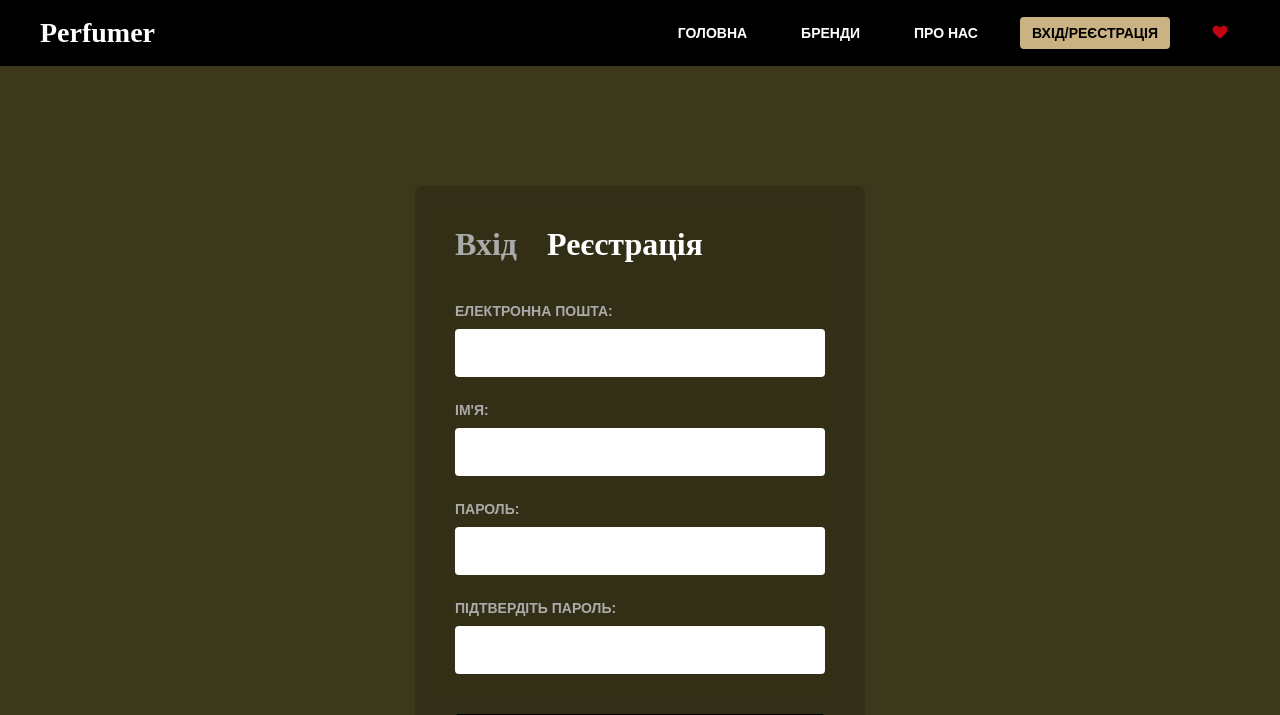
Авторизація (Real DB) › Вхід існуючим користувачем (з помилкою)
The width and height of the screenshot is (1280, 715).
Click the button "Вхід": (486, 250) left=455, top=226, right=517, bottom=273
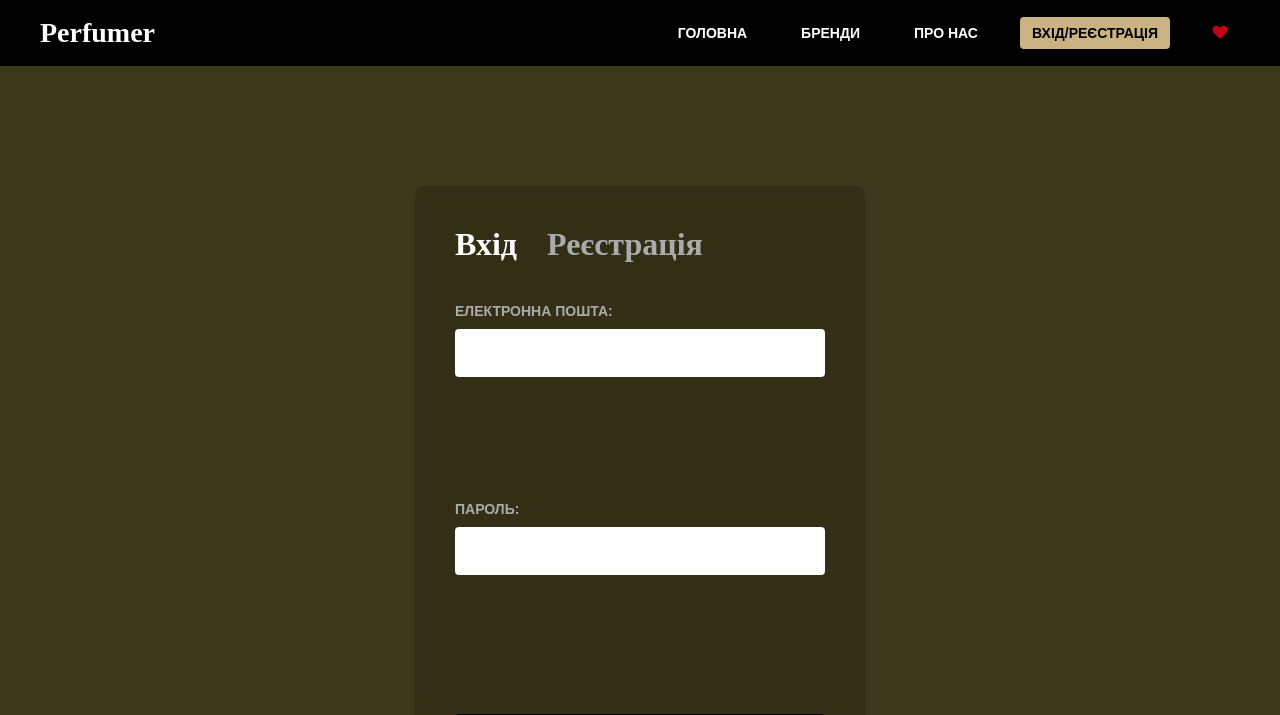
In the field with id "email": (640, 353) left=455, top=329, right=825, bottom=377, type "kdjfhskdfjh@mail.com"
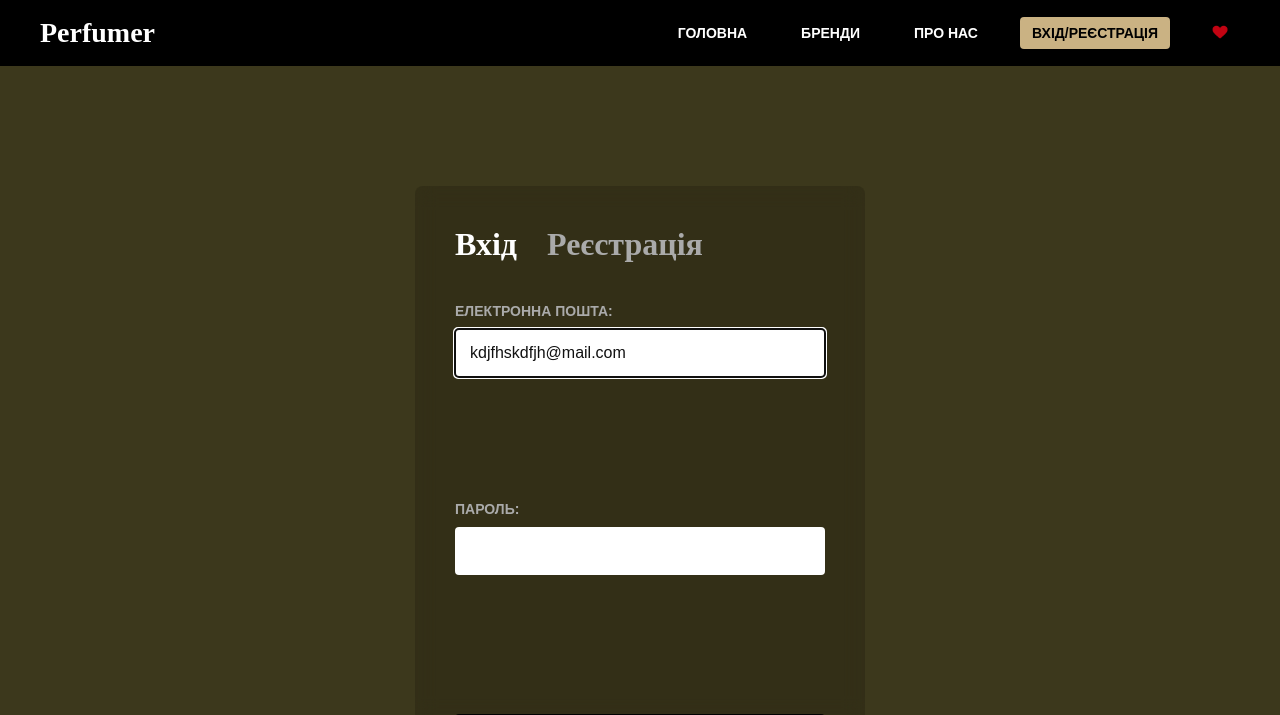
In the password field labelled "Пароль:": (640, 551) left=455, top=527, right=825, bottom=575, type "wrongpass"
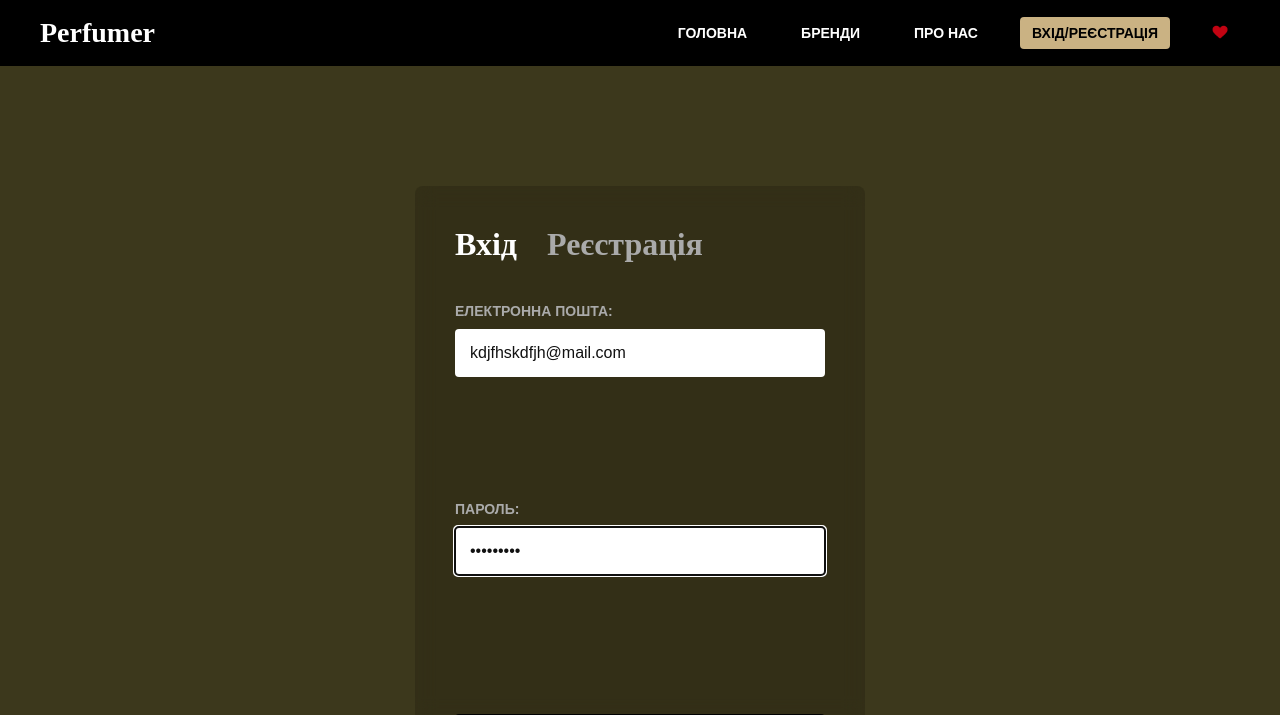
Scroll
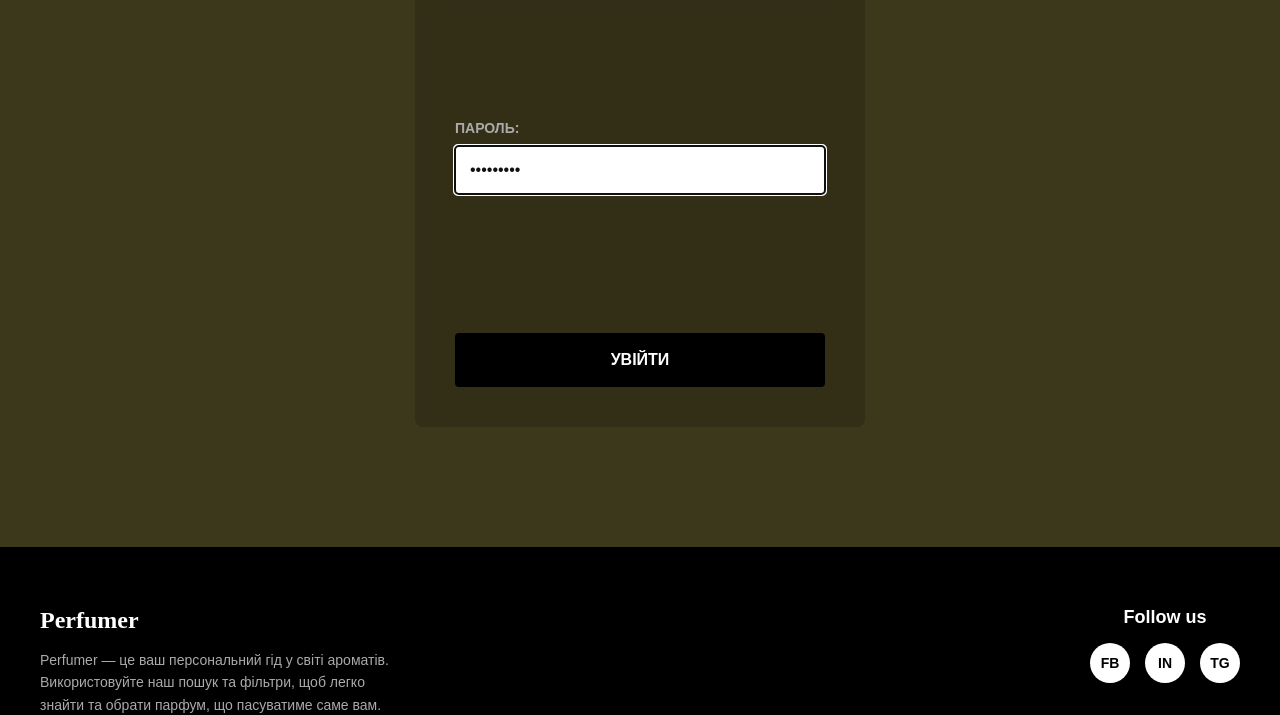
Click the button "Увійти": (640, 360) left=455, top=333, right=825, bottom=387
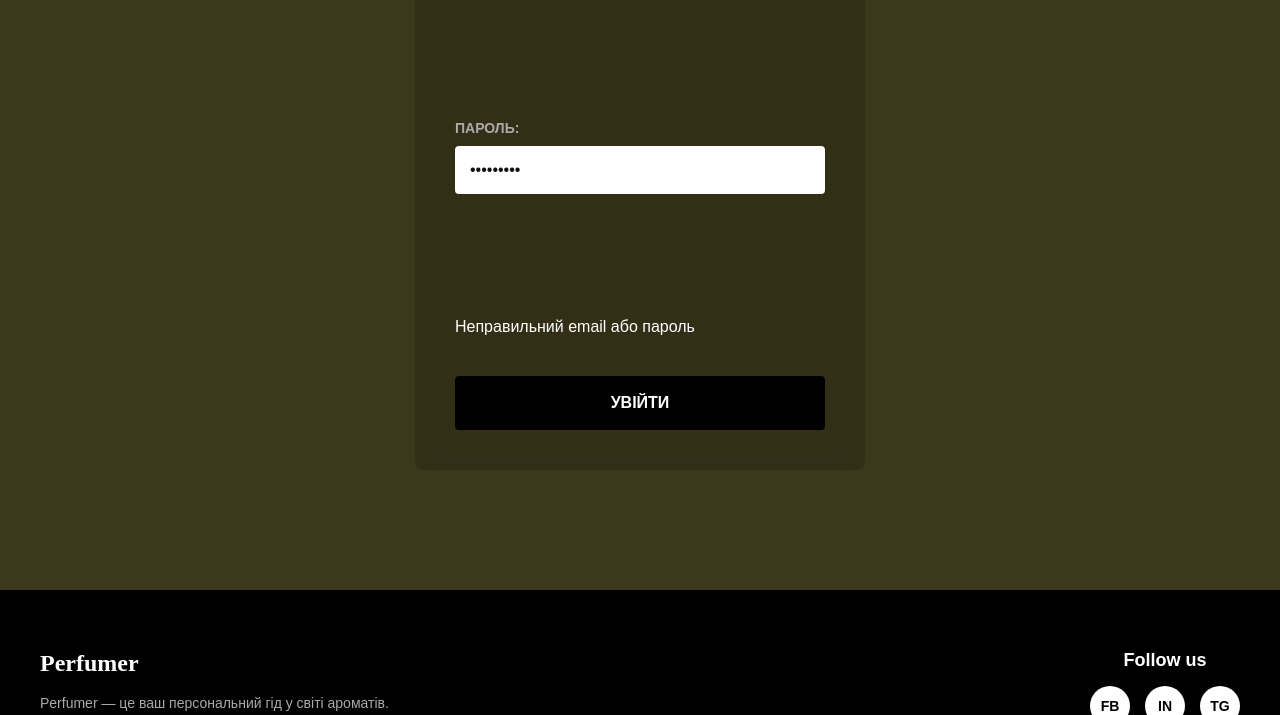
Now the text "Неправильний email або пароль" is shown, box left=455, top=318, right=695, bottom=335
